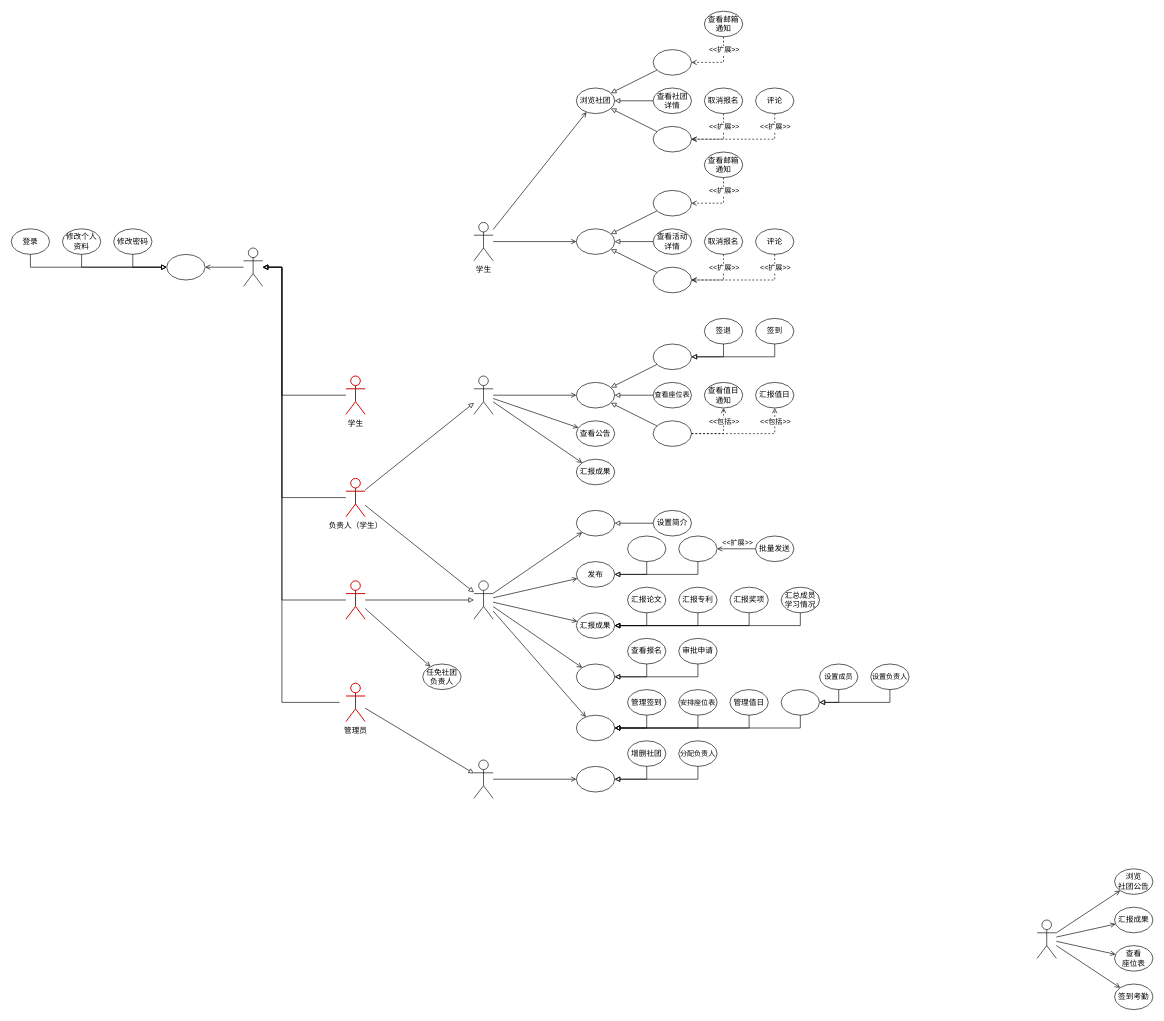
This 1164x1021 diagram has some shape labels left out. Each missing label, with the box of its shape:
值日: (652, 420, 692, 446)
关注活动: (652, 190, 692, 216)
关注社团: (652, 49, 692, 75)
发布公告 （在首页）: (627, 535, 666, 562)
发送邮件: (678, 535, 717, 562)
变动权限: (780, 689, 820, 715)
处理招新: (576, 663, 615, 690)
打卡: (652, 343, 692, 370)
报名活动: (652, 267, 692, 293)
报名社团: (652, 126, 692, 152)
教师（名义上的基地负责人）: (345, 580, 365, 619)
浏览活动: (576, 228, 615, 254)
用户: (243, 247, 263, 286)
用户管理: (166, 254, 205, 280)
社团成员: (1036, 919, 1056, 958)
社团成员 （能力抽象）: (473, 375, 493, 414)
管理 社团基地: (576, 766, 615, 792)
管理人员: (576, 715, 615, 741)
管理员 （能力抽象）: (473, 759, 493, 798)
管理基地: (576, 510, 615, 536)
负责人 （能力抽象）: (473, 580, 493, 619)
进行日常活动: (576, 382, 615, 408)
